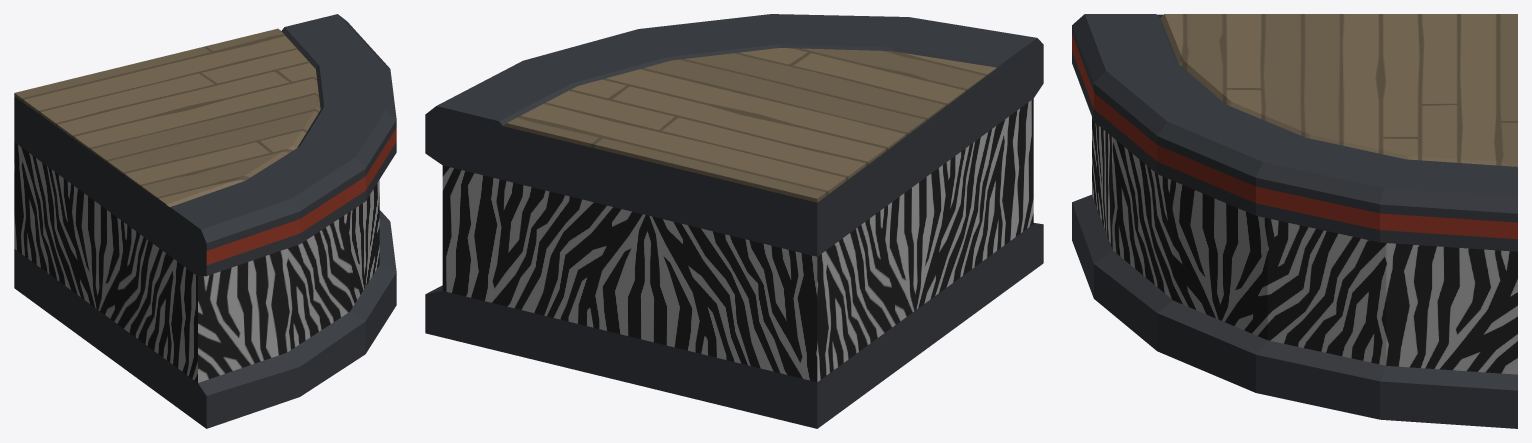
Rendered from SM_Prop_Platform_01_Corner_L_01.obj.
3 renders of one model, left to right at view 1: azimuth 30°, elevation 25°; view 2: azimuth 150°, elevation 25°; view 3: azimuth 270°, elevation 25°, orthographic. The views are drawn at different scales.
Visible parts, largest first — view 1: SM_Prop_Platform_01_Corner_L_01_0, SM_Prop_Platform_01_Corner_L_01_1, SM_Prop_Platform_01_Corner_L_01_2; view 2: SM_Prop_Platform_01_Corner_L_01_0, SM_Prop_Platform_01_Corner_L_01_1, SM_Prop_Platform_01_Corner_L_01_2; view 3: SM_Prop_Platform_01_Corner_L_01_0, SM_Prop_Platform_01_Corner_L_01_1, SM_Prop_Platform_01_Corner_L_01_2.
Boxes of the visible parts, x1=… form: SM_Prop_Platform_01_Corner_L_01_0: x1=14, y1=14, x2=396, y2=428; SM_Prop_Platform_01_Corner_L_01_1: x1=14, y1=142, x2=379, y2=382; SM_Prop_Platform_01_Corner_L_01_2: x1=14, y1=28, x2=320, y2=206; SM_Prop_Platform_01_Corner_L_01_0: x1=425, y1=14, x2=1043, y2=428; SM_Prop_Platform_01_Corner_L_01_1: x1=442, y1=99, x2=1033, y2=382; SM_Prop_Platform_01_Corner_L_01_2: x1=503, y1=48, x2=996, y2=202; SM_Prop_Platform_01_Corner_L_01_0: x1=1072, y1=14, x2=1517, y2=428; SM_Prop_Platform_01_Corner_L_01_1: x1=1092, y1=117, x2=1517, y2=374; SM_Prop_Platform_01_Corner_L_01_2: x1=1160, y1=14, x2=1517, y2=166.
Size of the model in its own units: 1.78 by 1 by 1.78.
Materials: 3 (3 with a texture image).
